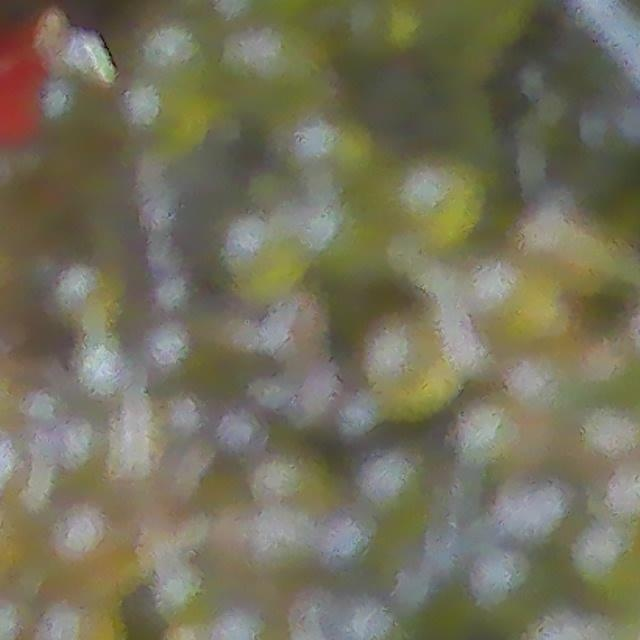SeaGrape: (507, 193, 616, 294), (352, 313, 456, 416), (43, 491, 142, 588), (466, 257, 565, 352), (213, 208, 307, 302), (225, 29, 330, 111), (447, 402, 537, 482), (389, 156, 480, 233), (115, 74, 206, 143), (139, 324, 209, 398), (360, 449, 428, 516)
